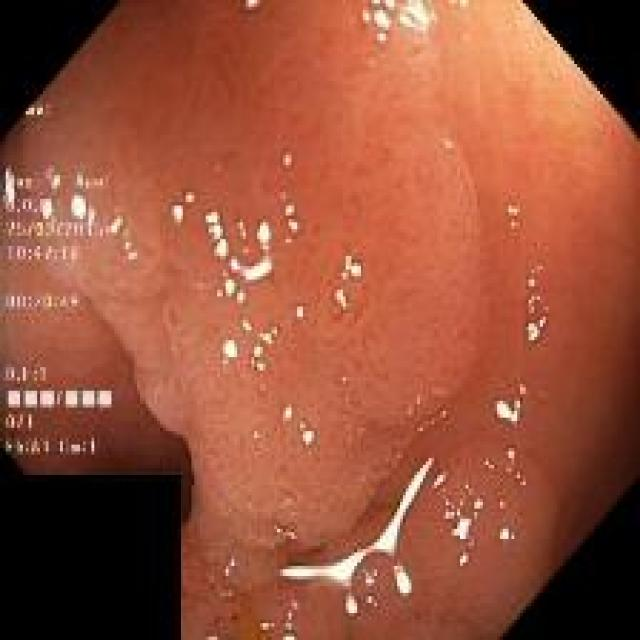Polyps: (9, 4, 488, 553), (239, 448, 554, 640)
